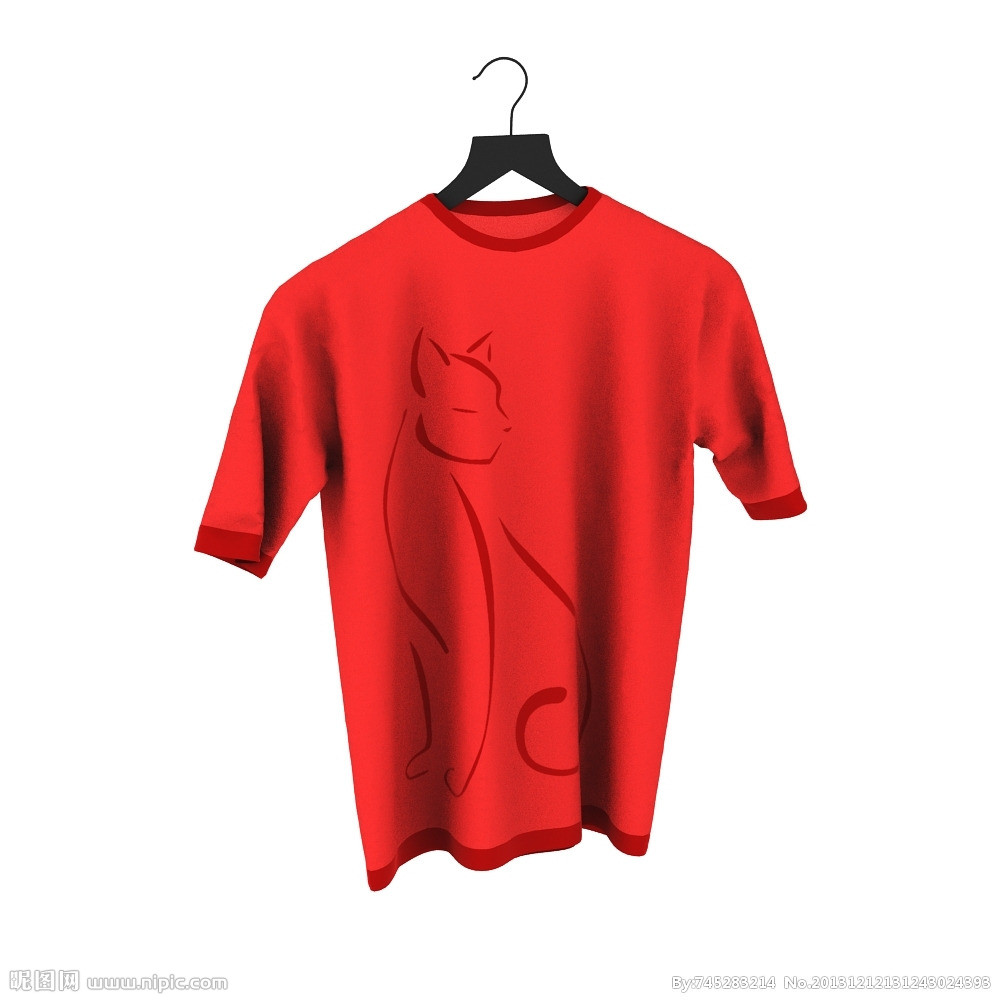flexible: (192, 197, 817, 890)
